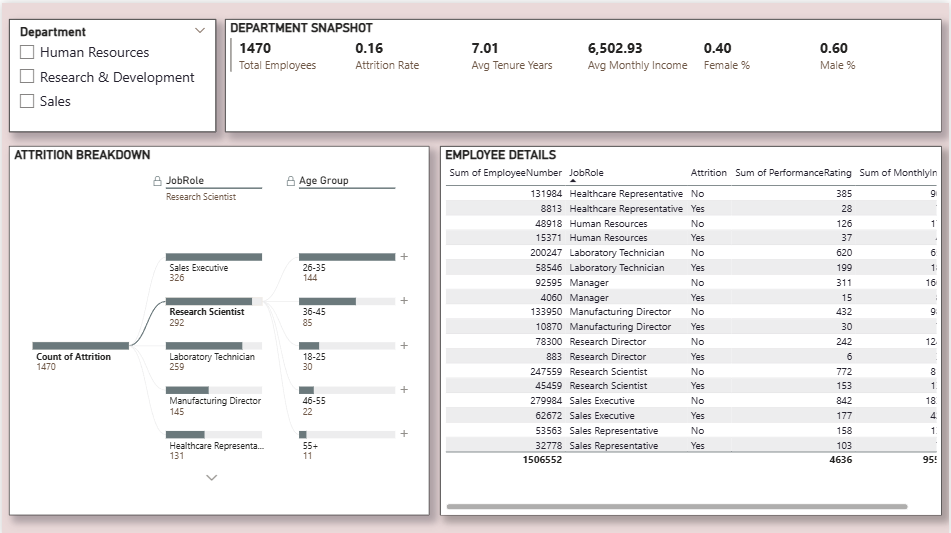

The page's visual inventory and layout, read from the dashboard file:
{"tool":"powerbi","page":{"name":"Department Deep-Dive","canvas":[1280,720],"ordinal":4},"visuals":[{"type":"slicer","fields":{"Values":["HR_Employee_dataset.Department"]},"box":[10,21.5,280.3,153],"z":0},{"type":"multiRowCard","title":"DEPARTMENT SNAPSHOT","fields":{"Values":["HR_Employee_dataset.Total Employees","HR_Employee_dataset.Attrition Rate","HR_Employee_dataset.Avg Tenure Years","HR_Employee_dataset.Avg Monthly Income","HR_Employee_dataset.Female %","HR_Employee_dataset.Male %"]},"box":[301.8,21.5,968.2,153],"z":1000},{"type":"decompositionTreeVisual","title":"ATTRITION BREAKDOWN","fields":{"Analyze":["CountNonNull(HR_Employee_dataset.Attrition)"],"ExplainBy":["HR_Employee_dataset.JobRole","HR_Employee_dataset.Age Group","HR_Employee_dataset.Gender"]},"box":[10,193.1,567.8,499.1],"z":2000},{"type":"tableEx","title":"EMPLOYEE DETAILS","fields":{"Values":["Sum(HR_Employee_dataset.EmployeeNumber)","HR_Employee_dataset.JobRole","HR_Employee_dataset.Attrition","Sum(HR_Employee_dataset.PerformanceRating)","Sum(HR_Employee_dataset.MonthlyIncome)"]},"box":[592.1,193.1,677.9,499.1],"z":3000}]}

Visuals, with their boxes in screenshot pixels (x1, y1, x2, y2), scaled from the page's 1280x720 canvas onto the 951x533 screenshot:
slicer - HR_Employee_dataset.Department: bbox=[7, 16, 216, 129]
"DEPARTMENT SNAPSHOT" multiRowCard: bbox=[224, 16, 944, 129]
"ATTRITION BREAKDOWN" decompositionTreeVisual: bbox=[7, 143, 429, 512]
"EMPLOYEE DETAILS" tableEx: bbox=[440, 143, 944, 512]
